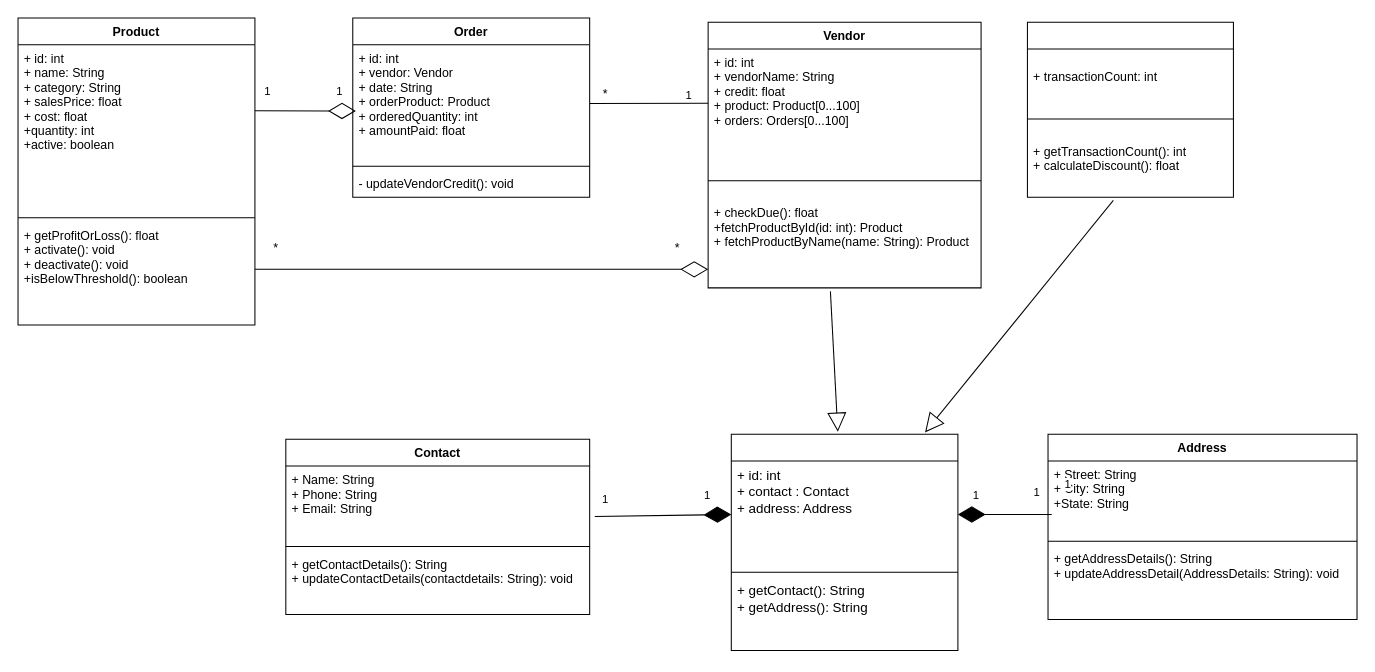
Image size: 1375x672. Some labels were removed from this diagram. The box of each missing label's shape, as (x1, y1, x2, y2) in pixels:
Bussiness Partner: (730, 433, 958, 650)
Customer: (1026, 21, 1233, 197)
